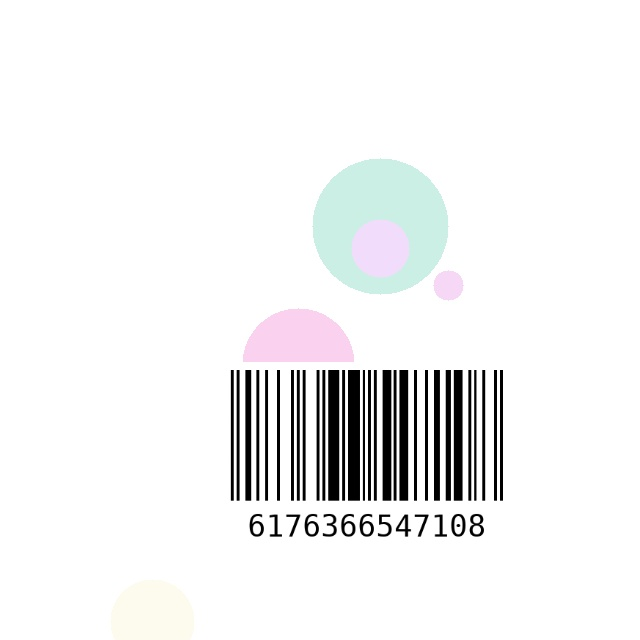barcode: (175, 362, 559, 567)
